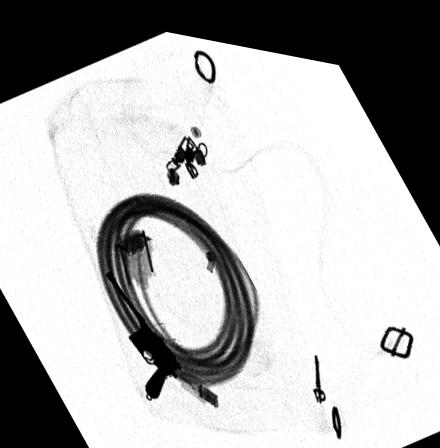Gun: (103, 264, 183, 393)
